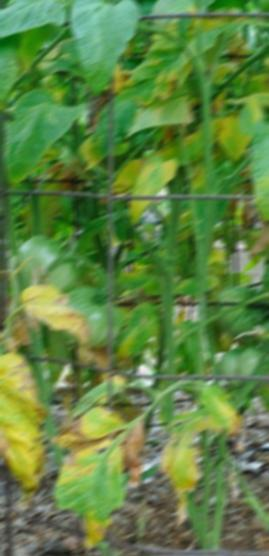Tomato Early blight leaf: (157, 389, 256, 520), (55, 410, 145, 551), (0, 352, 46, 487), (24, 282, 96, 360), (129, 160, 179, 224), (215, 112, 251, 163)
Tomato leaf: (72, 0, 138, 103), (4, 87, 73, 182), (0, 0, 65, 39)
